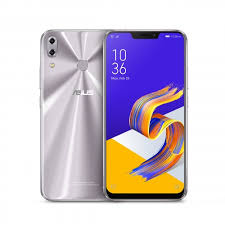asus: (36, 26, 190, 204), (102, 26, 189, 204), (38, 28, 105, 202)
